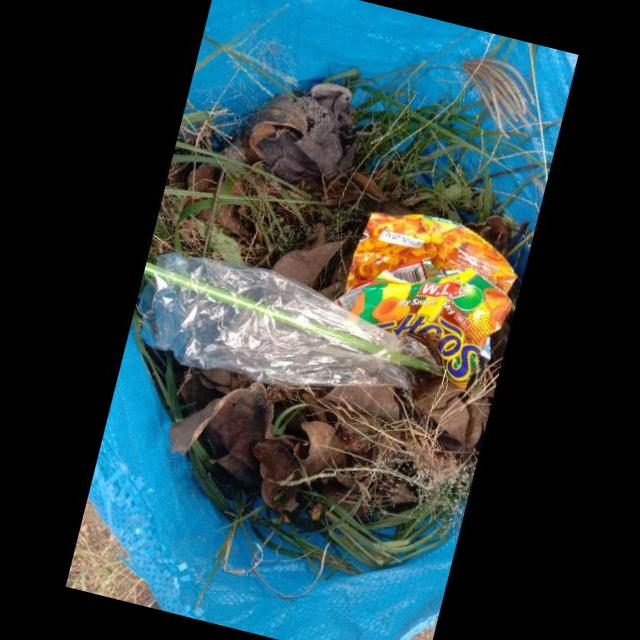bao_bi_thuc_pham: (334, 213, 516, 391)
la_cay: (170, 381, 272, 493), (258, 420, 360, 523), (411, 365, 500, 449), (320, 460, 419, 528), (270, 223, 351, 286), (236, 93, 306, 165), (323, 383, 411, 431), (463, 215, 511, 258), (212, 207, 252, 245), (186, 162, 224, 193), (349, 171, 386, 202)
ong_hut_nhua: (142, 261, 429, 371)
tui_ni_long: (137, 251, 436, 390)
